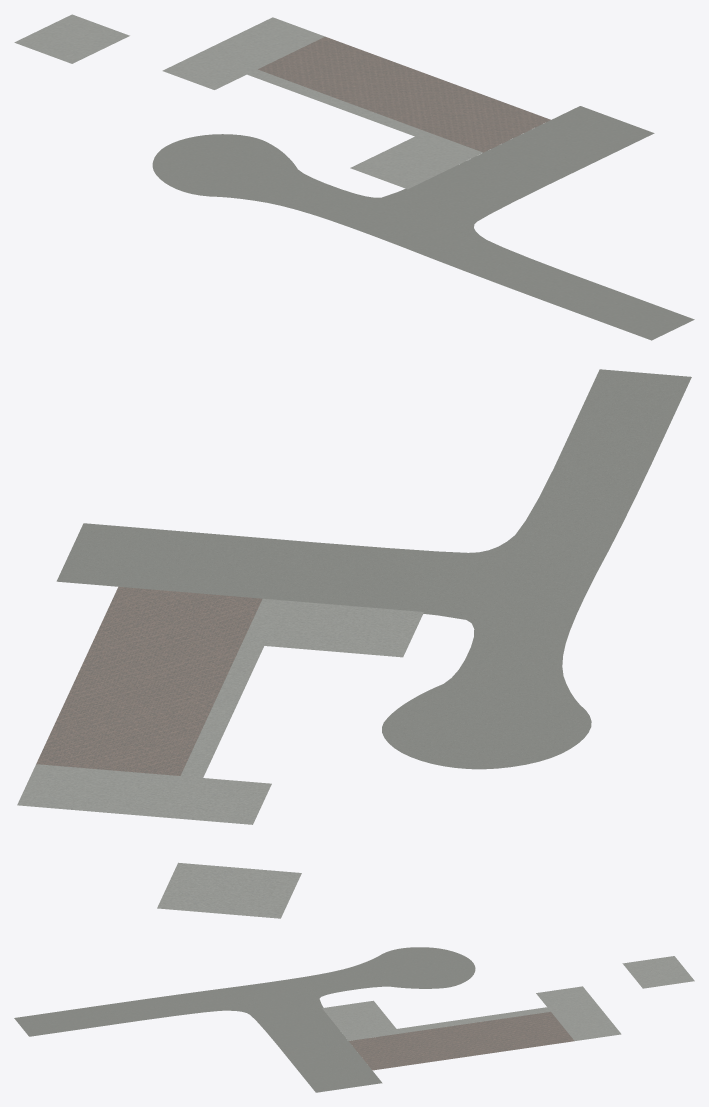
File: site_surfaces.glb
3 views of the same model, one above another, from view 1: azimuth 30°, elevation 25°; view 2: azimuth 150°, elevation 25°; view 3: azimuth 270°, elevation 25° (orthographic). The views are drawn at different scales.
Visible parts, largest first — view 1: New_Road_And_Turning_Head.001, site_surfaces_143, Brick_Loading_Courtyard.001; view 2: New_Road_And_Turning_Head.001, site_surfaces_143, Brick_Loading_Courtyard.001; view 3: New_Road_And_Turning_Head.001, site_surfaces_143, Brick_Loading_Courtyard.001.
Boxes of the visible parts, x1,y1,x2,y2 form: New_Road_And_Turning_Head.001: (152,106,694,340); site_surfaces_143: (14,14,482,189); Brick_Loading_Courtyard.001: (258,36,550,152); New_Road_And_Turning_Head.001: (56,369,691,769); site_surfaces_143: (17,598,423,918); Brick_Loading_Courtyard.001: (36,586,262,775); New_Road_And_Turning_Head.001: (14,947,475,1092); site_surfaces_143: (322,956,694,1040); Brick_Loading_Courtyard.001: (349,1012,574,1070).
Bounding box in the file's own units: 103 × 0.4184 × 203.
Materials: 3 (3 with a texture image).
